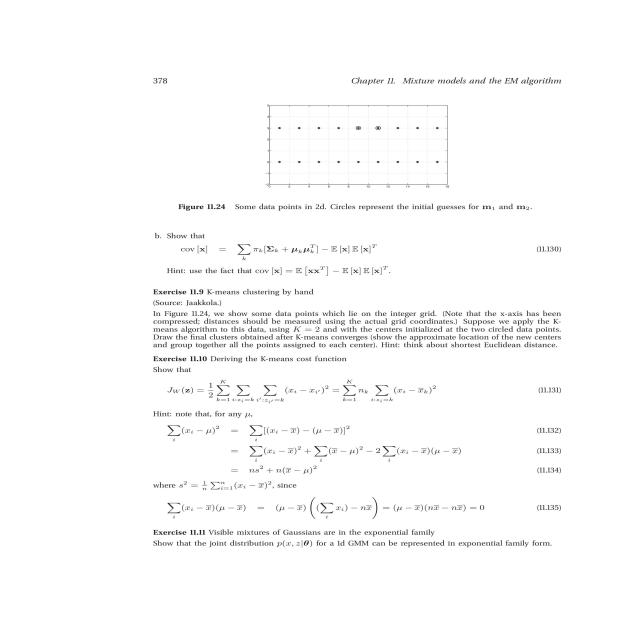diagram: (101, 85, 640, 230)
